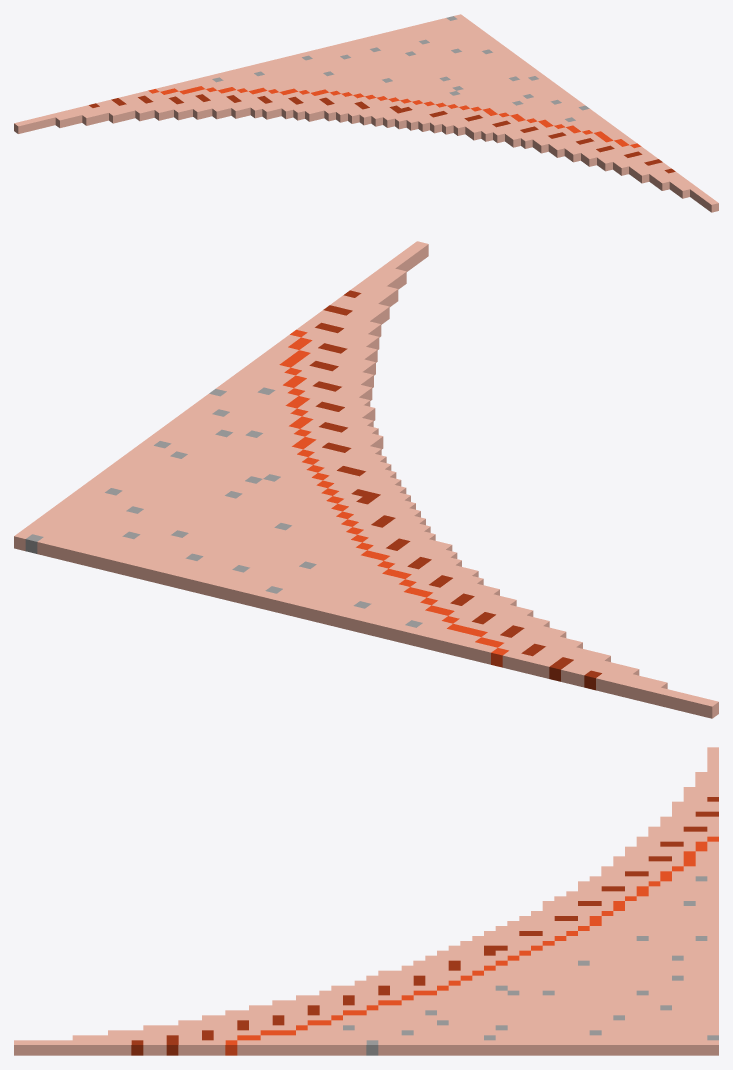
File: 90_Large-1.obj
3 renders of one model, top to bottom at view 1: azimuth 30°, elevation 25°; view 2: azimuth 150°, elevation 25°; view 3: azimuth 270°, elevation 25°, orthographic. The views are drawn at different scales.
Visible parts, largest first — view 1: 90_Large-1; view 2: 90_Large-1; view 3: 90_Large-1.
Boxes of the visible parts, x1,y1,x2,y2 form: 90_Large-1: (14, 14, 718, 212); 90_Large-1: (14, 241, 718, 718); 90_Large-1: (14, 747, 718, 1055).
Size of the model in its own units: 60 by 1 by 60.
Materials: 1 (1 with a texture image).
